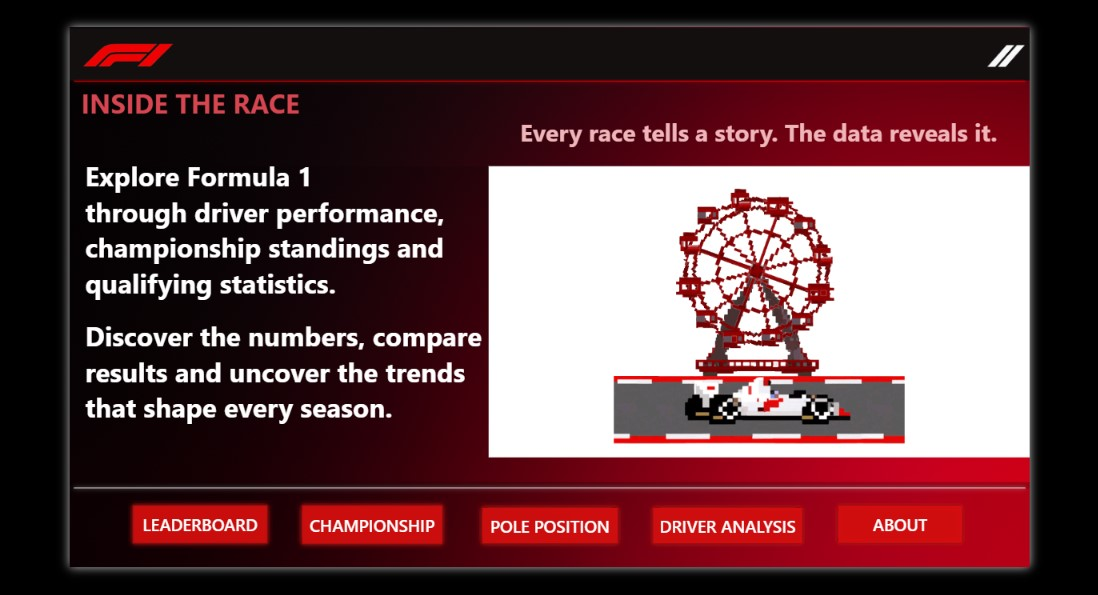

Layout of this report page (visuals, bound fields, positions):
{"tool":"powerbi","page":{"name":"HOME","canvas":[1920,1080],"ordinal":0},"visuals":[{"type":"shape","box":[0,2.5,1920,104.6],"z":0,"group":"g1"},{"type":"shape","box":[0,910.3,1920,170],"z":0},{"type":"image","box":[24.7,3.1,186.5,106.9],"z":1000,"group":"g1"},{"type":"shape","box":[0,277.5,1920,645],"z":1000},{"type":"textbox","box":[0,110.4,483.2,90.5],"z":1594,"group":"g2"},{"type":"textbox","box":[865,172.8,1027.9,83.2],"z":1594,"group":"g3"},{"type":"group","id":"g1","title":"Group 1","box":[0,2.5,1920,107.5],"z":2000},{"type":"image","box":[1824.1,0,95,115],"z":3000},{"type":"image","box":[838,278,1082,582],"z":4000},{"type":"textbox","box":[25.3,255.2,820,597.5],"z":6000},{"type":"actionButton","title":"Leadership Button","box":[454,946,302,98],"z":7000},{"type":"actionButton","title":"Leadership Button","box":[116.7,946.7,290,96.7],"z":8000},{"type":"group","id":"g2","title":"Group 2","box":[0,110.4,483.2,90.5],"z":9000},{"type":"actionButton","title":"Leadership Button","box":[813.3,950,293.3,93.3],"z":10000},{"type":"actionButton","title":"Leadership Button","box":[1156.7,950,320,93.3],"z":11000},{"type":"shape","box":[0,883.1,1920,75],"z":12000},{"type":"shape","box":[0,98,1920,20],"z":13000},{"type":"actionButton","title":"Leadership Button","box":[1526.7,946.7,270,96.7],"z":14000},{"type":"group","id":"g3","title":"Group 2","box":[865,172.8,1027.9,83.2],"z":15000}]}

Visuals, with their boxes on the page's 1920x1080 design canvas (x1, y1, x2, y2). These are canvas units, not pixel positions in the 1098x595 screenshot, which may show the page scaled, cropped or inside an application window:
shape: {"x1": 0, "y1": 2, "x2": 1920, "y2": 107}
shape: {"x1": 0, "y1": 910, "x2": 1920, "y2": 1080}
image: {"x1": 25, "y1": 3, "x2": 211, "y2": 110}
shape: {"x1": 0, "y1": 278, "x2": 1920, "y2": 922}
textbox: {"x1": 0, "y1": 110, "x2": 483, "y2": 201}
textbox: {"x1": 865, "y1": 173, "x2": 1893, "y2": 256}
"Group 1" group: {"x1": 0, "y1": 2, "x2": 1920, "y2": 110}
image: {"x1": 1824, "y1": 0, "x2": 1919, "y2": 115}
image: {"x1": 838, "y1": 278, "x2": 1920, "y2": 860}
textbox: {"x1": 25, "y1": 255, "x2": 845, "y2": 853}
"Leadership Button" actionButton: {"x1": 454, "y1": 946, "x2": 756, "y2": 1044}
"Leadership Button" actionButton: {"x1": 117, "y1": 947, "x2": 407, "y2": 1043}
"Group 2" group: {"x1": 0, "y1": 110, "x2": 483, "y2": 201}
"Leadership Button" actionButton: {"x1": 813, "y1": 950, "x2": 1107, "y2": 1043}
"Leadership Button" actionButton: {"x1": 1157, "y1": 950, "x2": 1477, "y2": 1043}
shape: {"x1": 0, "y1": 883, "x2": 1920, "y2": 958}
shape: {"x1": 0, "y1": 98, "x2": 1920, "y2": 118}
"Leadership Button" actionButton: {"x1": 1527, "y1": 947, "x2": 1797, "y2": 1043}
"Group 2" group: {"x1": 865, "y1": 173, "x2": 1893, "y2": 256}
